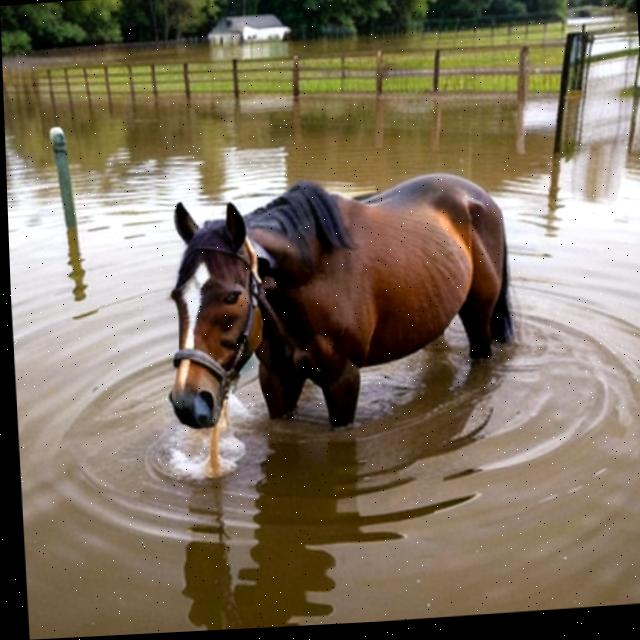horse: (130, 132, 532, 474)
